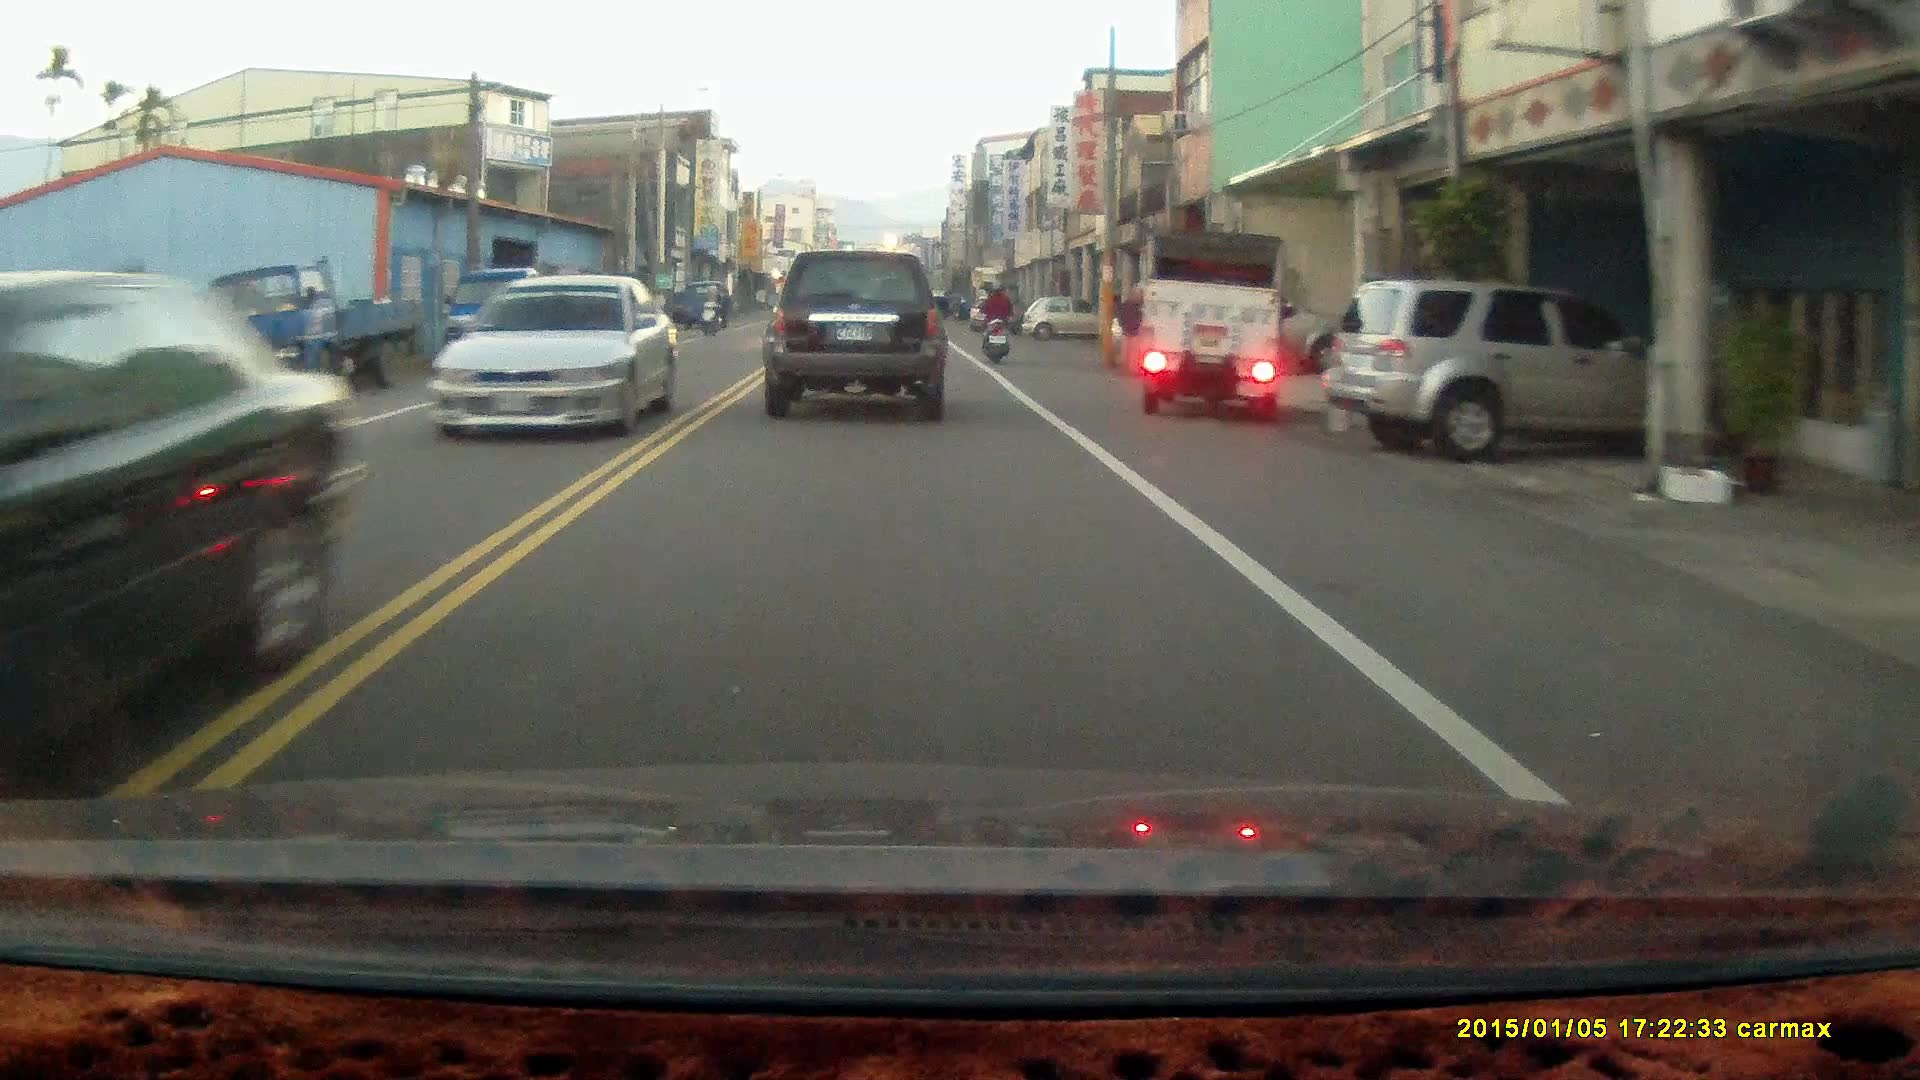pedestrian: (1116, 286, 1147, 378)
rider: (977, 282, 1013, 369), (698, 280, 727, 340)
vehicle: (1, 270, 366, 797), (1333, 279, 1662, 462), (430, 274, 674, 443), (193, 258, 423, 410), (766, 252, 950, 426), (1140, 230, 1290, 420), (1107, 277, 1342, 380), (1025, 296, 1099, 349)
